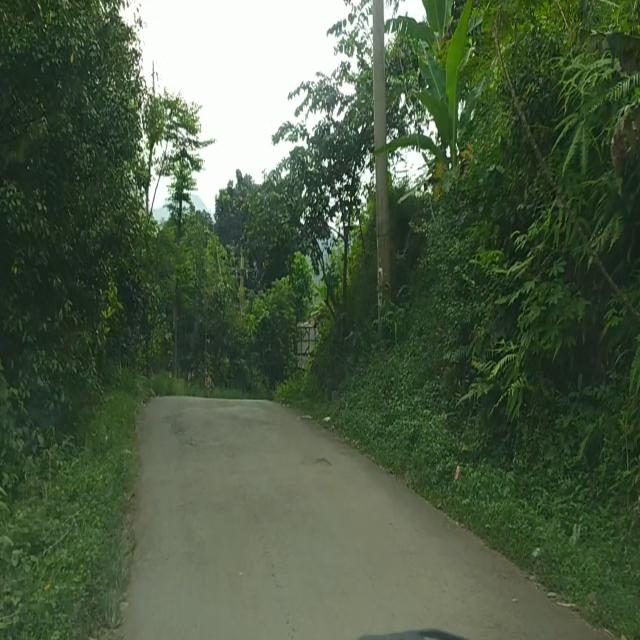Drain Hole: (162, 411, 200, 448)
